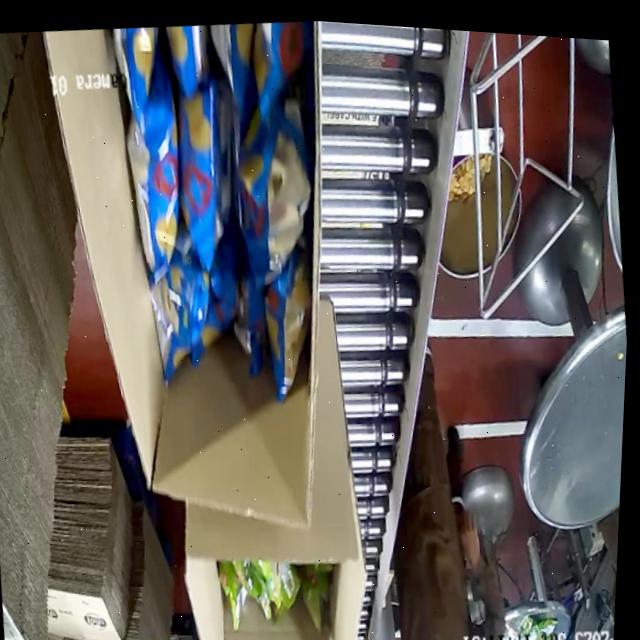PAPRIKA: (89, 8, 343, 424)
